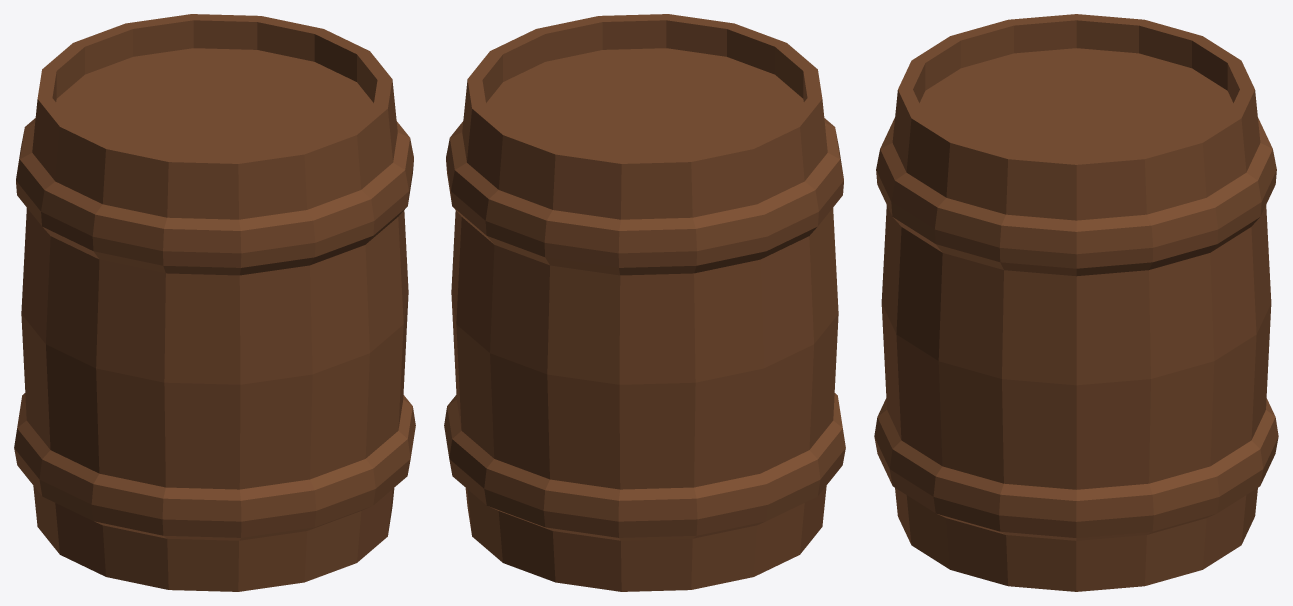
The model's file is Barril.fbx.
3 renders of one model, left to right at view 1: azimuth 30°, elevation 25°; view 2: azimuth 150°, elevation 25°; view 3: azimuth 270°, elevation 25°, orthographic.
Visible parts, largest first — view 1: LOD_0; view 2: LOD_0; view 3: LOD_0.
Boxes of the visible parts, x1,y1,x2,y2 form: LOD_0: [14, 14, 415, 591]; LOD_0: [444, 14, 845, 591]; LOD_0: [874, 14, 1278, 591].
Size of what is drawn, in the model's own units: 196 by 228 by 196.
